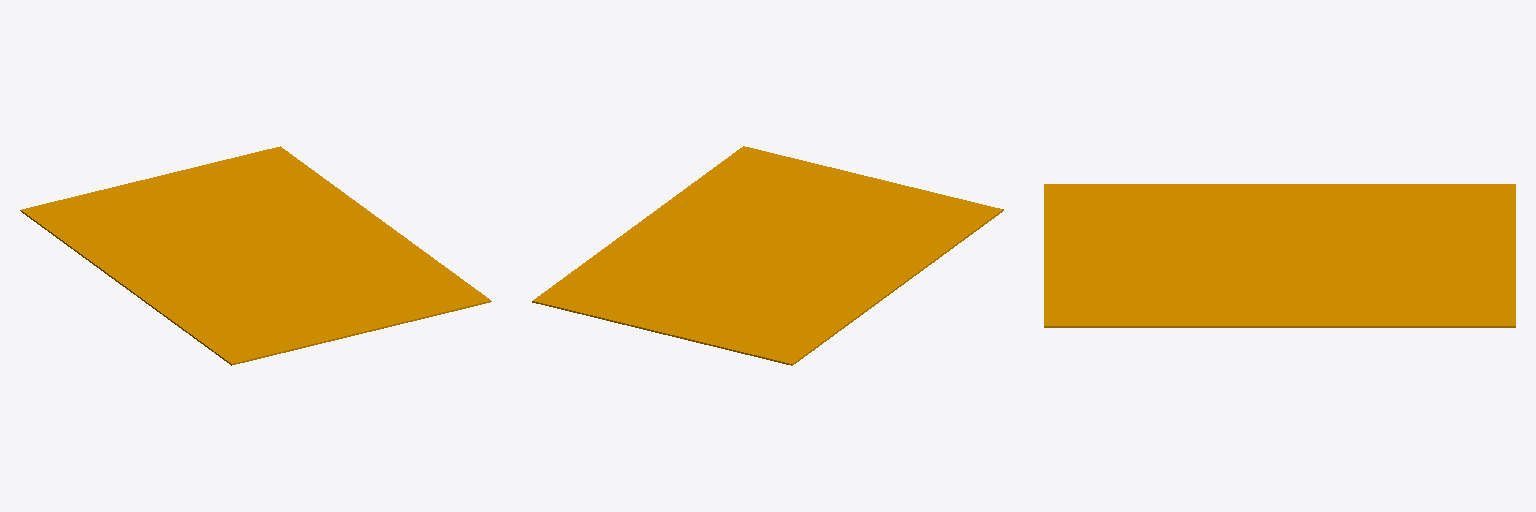
URDF robot description (none):
<robot name="none">
       <link name="none">
           <visual>
               <origin rpy="1.57 0 0" xyz="0 0 0" />
               <geometry>
                   <mesh filename="carpet.obj" />
               </geometry>
           </visual>
          <collision>
              <geometry>
                  <box size="0.711111 0.004445 1.000000" />
              </geometry>
          </collision>

          <inertial>
            <mass value="0.0" />
            <inertia ixx="0.0" ixy="0.0" ixz="0.0" iyy="0.0" iyz="0.0" izz="0.0" />
          </inertial>
      </link>
  </robot>

--- Facts derived from the render (not from the file) ---
Views: 3 orthographic renders of the robot side by side, from view 1: azimuth 30°, elevation 25°; view 2: azimuth 150°, elevation 25°; view 3: azimuth 270°, elevation 25°.
Robot: none — 1 links, 0 joints (none); root link none; default pose: every joint at zero.
Links seen in each view (by area): view 1: none; view 2: none; view 3: none.
Link boxes in pixels (bbox=[...]): none: bbox=[20, 146, 491, 365]; none: bbox=[532, 146, 1003, 365]; none: bbox=[1044, 184, 1515, 327].
Bounding box of the posed robot: 0.7111 × 1 × 0.0052 m (x, y, z).
1 mesh visuals loaded from 1 distinct referenced files (1 OBJ).
